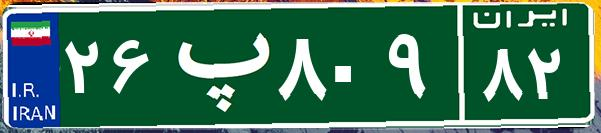0: (330, 28, 385, 110)
2: (57, 26, 110, 107), (525, 38, 570, 115)
6: (110, 28, 158, 105)
8: (273, 28, 330, 110), (475, 38, 525, 113)
9: (385, 28, 445, 110)
پ: (158, 15, 273, 115)
